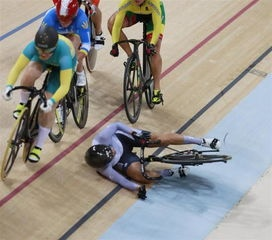falling: (76, 111, 223, 200)
